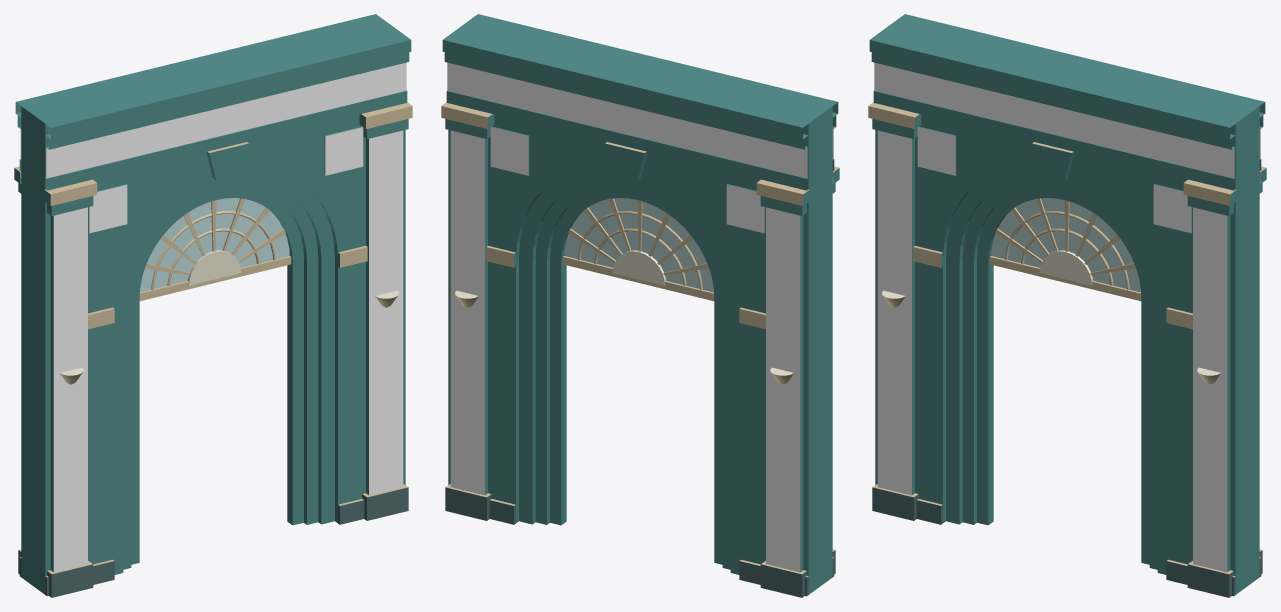
The model's file is KC32__AD_Int_Arch_Door.glb.
The picture shows the model from 3 angles, left to right: view 1: azimuth 30°, elevation 25°; view 2: azimuth 150°, elevation 25°; view 3: azimuth 330°, elevation 25°; orthographic projection.
Parts seen in each view (by area): view 1: KC32_CORPS__AD_Int_Arch_Door, KC32_ACCENT__AD_Int_Arch_Door, KC32_BRONZE__AD_Int_Arch_Door, KC32_VITRAGE__AD_Int_Arch_Door, KC32_LUMIERE__AD_Int_Arch_Door; view 2: KC32_CORPS__AD_Int_Arch_Door, KC32_ACCENT__AD_Int_Arch_Door, KC32_BRONZE__AD_Int_Arch_Door, KC32_VITRAGE__AD_Int_Arch_Door, KC32_LUMIERE__AD_Int_Arch_Door; view 3: KC32_CORPS__AD_Int_Arch_Door, KC32_ACCENT__AD_Int_Arch_Door, KC32_BRONZE__AD_Int_Arch_Door, KC32_VITRAGE__AD_Int_Arch_Door, KC32_LUMIERE__AD_Int_Arch_Door.
Part boxes in pixels (box(x1,y1,x2,y2)): KC32_CORPS__AD_Int_Arch_Door: box(14, 14, 411, 597); KC32_ACCENT__AD_Int_Arch_Door: box(20, 62, 406, 572); KC32_BRONZE__AD_Int_Arch_Door: box(14, 102, 412, 577); KC32_VITRAGE__AD_Int_Arch_Door: box(140, 198, 289, 292); KC32_LUMIERE__AD_Int_Arch_Door: box(60, 250, 398, 375); KC32_CORPS__AD_Int_Arch_Door: box(442, 14, 839, 597); KC32_ACCENT__AD_Int_Arch_Door: box(447, 62, 833, 572); KC32_BRONZE__AD_Int_Arch_Door: box(441, 102, 839, 577); KC32_VITRAGE__AD_Int_Arch_Door: box(564, 198, 713, 292); KC32_LUMIERE__AD_Int_Arch_Door: box(455, 250, 793, 375); KC32_CORPS__AD_Int_Arch_Door: box(869, 14, 1266, 597); KC32_ACCENT__AD_Int_Arch_Door: box(874, 62, 1260, 572); KC32_BRONZE__AD_Int_Arch_Door: box(868, 102, 1266, 577); KC32_VITRAGE__AD_Int_Arch_Door: box(991, 198, 1140, 292); KC32_LUMIERE__AD_Int_Arch_Door: box(882, 250, 1220, 375).
Size of the model in its own units: 8.04 by 10 by 1.66.
